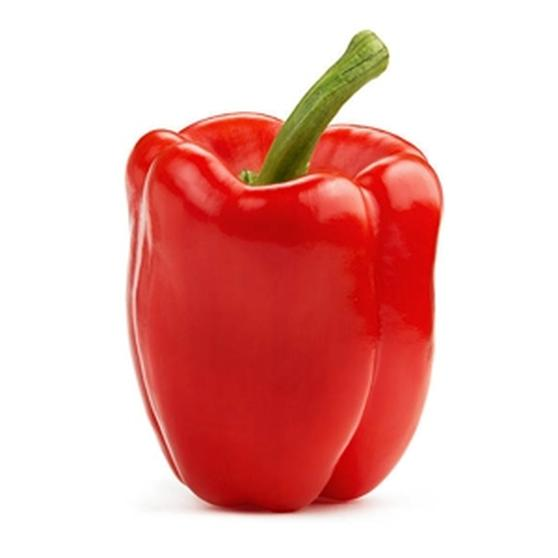pepper: (129, 91, 442, 514)
